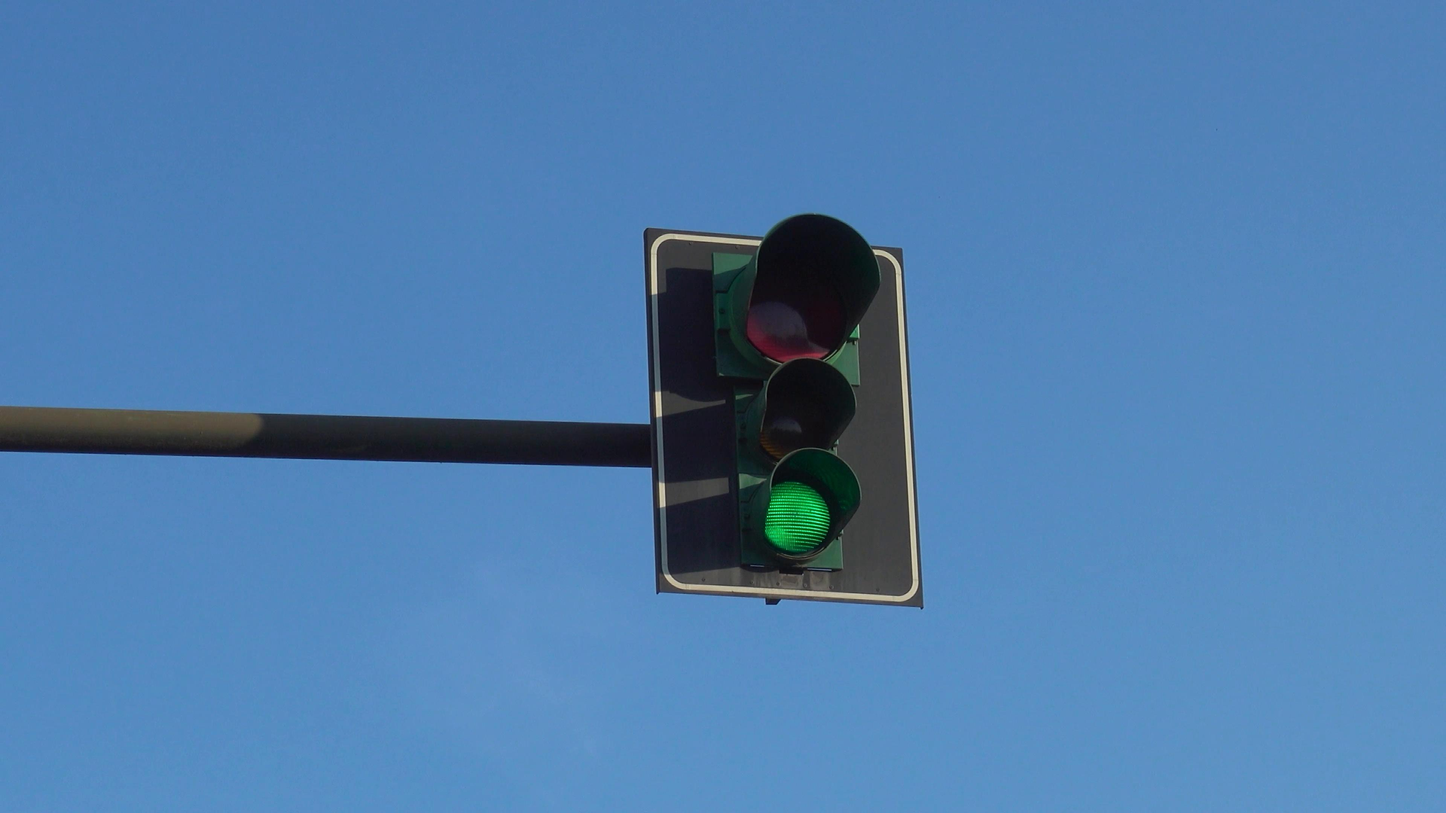Traffic light green: (627, 207, 936, 606)
